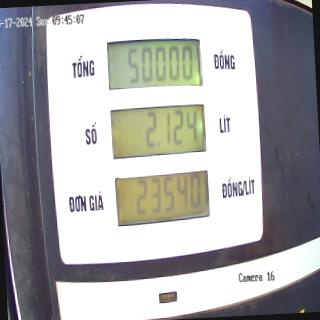screen: (104, 31, 212, 232)
